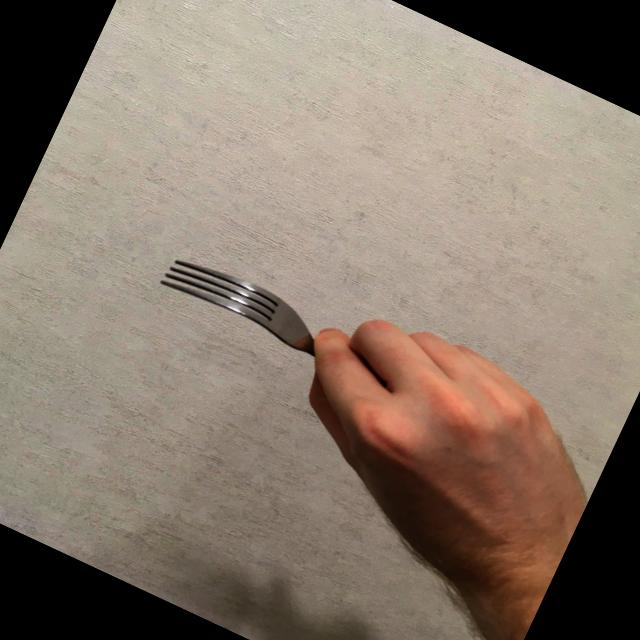fork: (153, 244, 459, 420)
